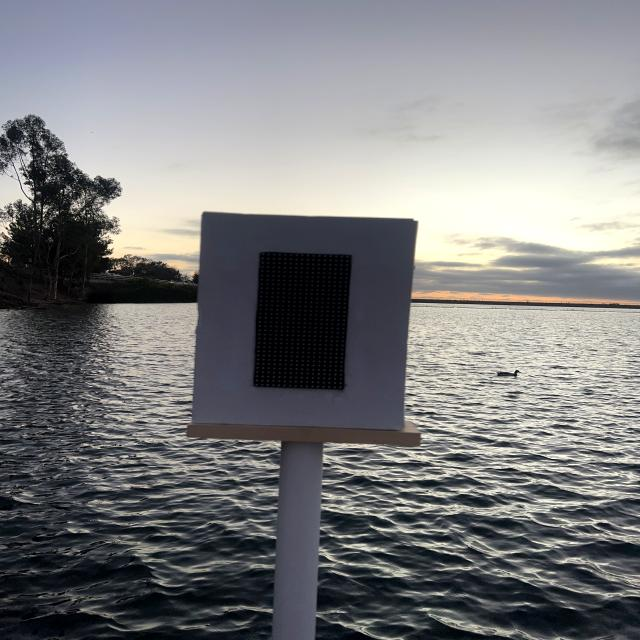led: (232, 220, 381, 418)
